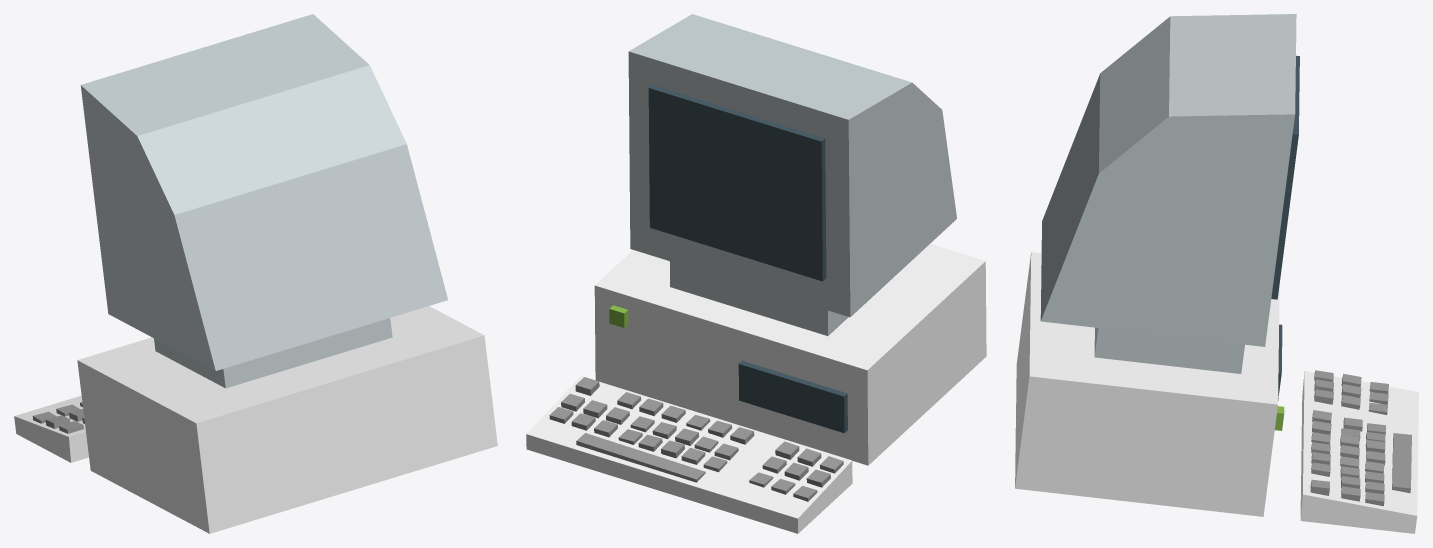
File: Computer.obj
The picture shows the model from 3 angles, left to right: view 1: azimuth 30°, elevation 25°; view 2: azimuth 150°, elevation 25°; view 3: azimuth 270°, elevation 25°; orthographic projection. The views are drawn at different scales.
Visible parts, largest first — view 1: group861517382, group1631870305, group2115554823, group1639888595; view 2: group861517382, group1631870305, group1262710399, group1639888595, group2131501692, group2115554823, group1139380957, group806411317, group396267525, group1625508101; view 3: group861517382, group1631870305, group1639888595, group2115554823, group1262710399, group1139380957, group396267525, group806411317, group1625508101.
Part boxes in pixels (<box>): group861517382: <box>80,14,447,370</box>; group1631870305: <box>77,306,497,533</box>; group2115554823: <box>154,318,392,388</box>; group1639888595: <box>14,395,88,462</box>; group861517382: <box>628,14,956,317</box>; group1631870305: <box>594,244,986,465</box>; group1262710399: <box>648,84,826,281</box>; group1639888595: <box>526,376,852,533</box>; group2131501692: <box>738,360,847,433</box>; group2115554823: <box>669,261,848,335</box>; group1139380957: <box>576,433,705,482</box>; group806411317: <box>775,441,843,473</box>; group396267525: <box>762,456,830,487</box>; group1625508101: <box>749,472,817,501</box>; group861517382: <box>1040,14,1296,346</box>; group1631870305: <box>1015,252,1279,516</box>; group1639888595: <box>1300,371,1418,533</box>; group2115554823: <box>1094,327,1244,373</box>; group1262710399: <box>1271,55,1299,299</box>; group1139380957: <box>1392,433,1411,493</box>; group396267525: <box>1341,373,1361,409</box>; group806411317: <box>1314,370,1333,404</box>; group1625508101: <box>1368,382,1388,414</box>.
Size of the model in its own units: 0.3734 by 0.4886 by 0.4318.
